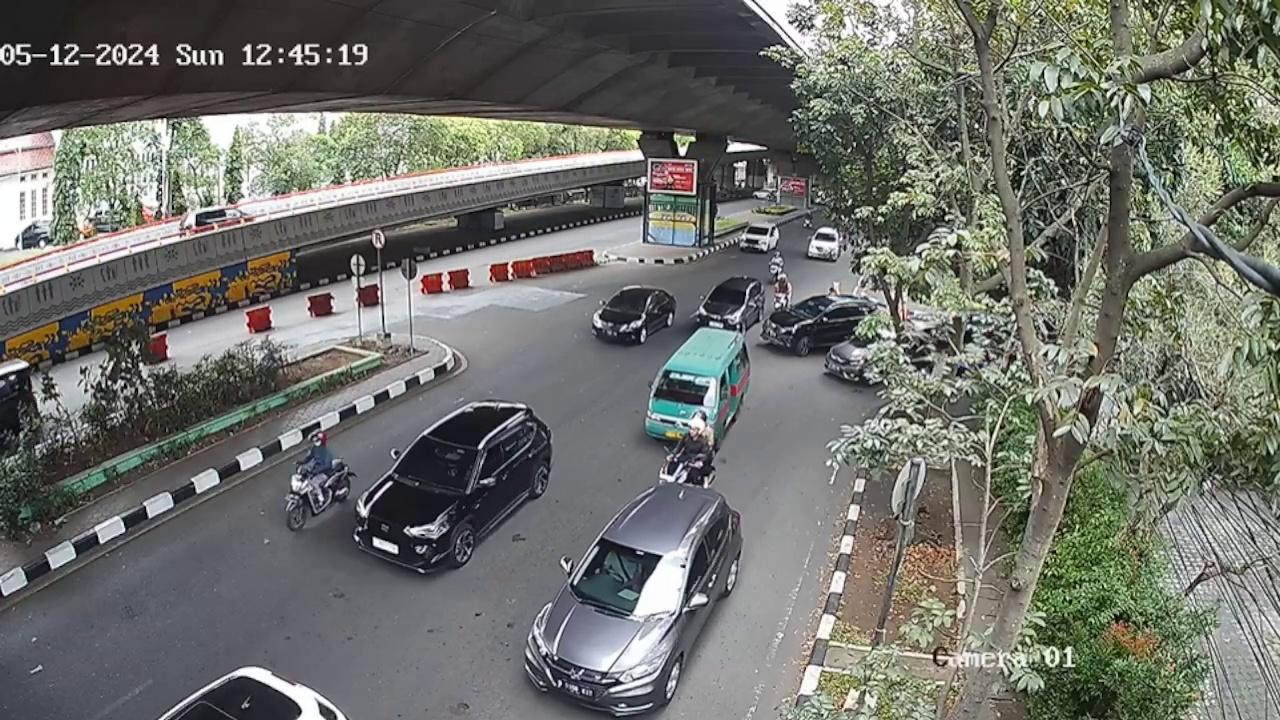pakai: (599, 550, 648, 597)
windshield: (568, 534, 687, 623), (392, 432, 479, 493), (651, 370, 720, 405)
